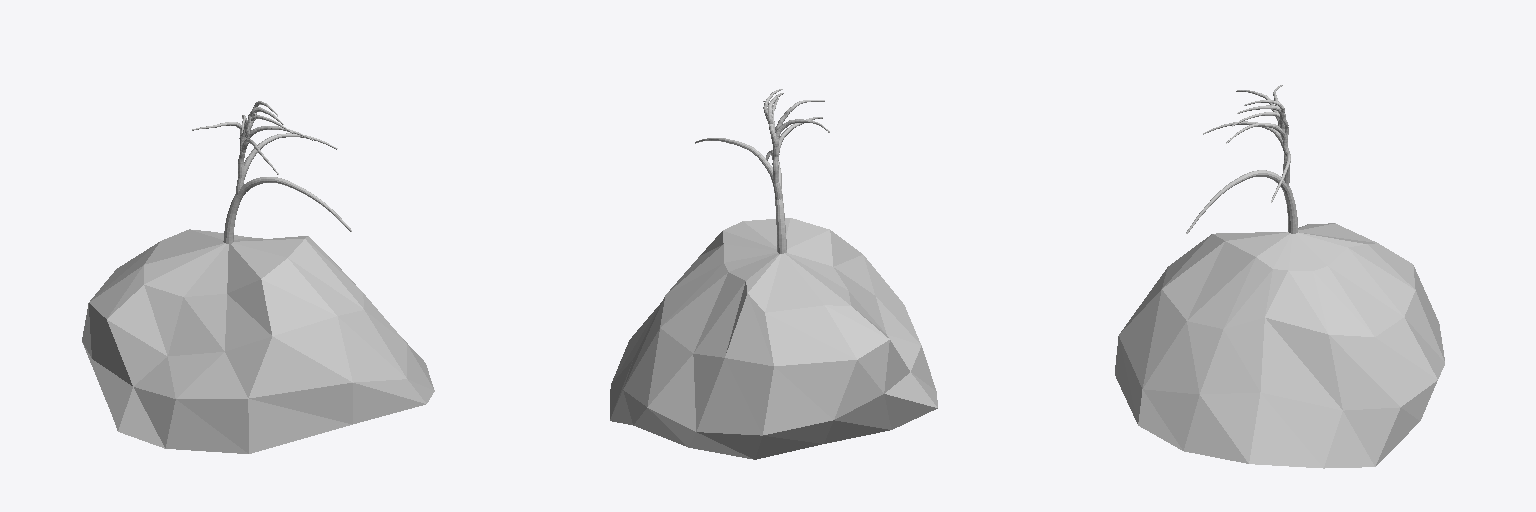
The model's file is smallmushroom5.obj.
The picture shows the model from 3 angles: view 1: azimuth 30°, elevation 25°; view 2: azimuth 150°, elevation 25°; view 3: azimuth 270°, elevation 25°; orthographic projection.
Parts seen in each view (by area): view 1: Sphere, IVY_Curve_IVY.003; view 2: Sphere, IVY_Curve_IVY.003; view 3: Sphere, IVY_Curve_IVY.003.
Part boxes in pixels (x1,y1,x2,y2): Sphere: (82, 229, 434, 453); IVY_Curve_IVY.003: (192, 101, 351, 243); Sphere: (610, 218, 937, 459); IVY_Curve_IVY.003: (695, 89, 829, 253); Sphere: (1115, 223, 1444, 468); IVY_Curve_IVY.003: (1186, 85, 1297, 233).
Size of the model in its own units: 1.82 by 1.77 by 1.69.